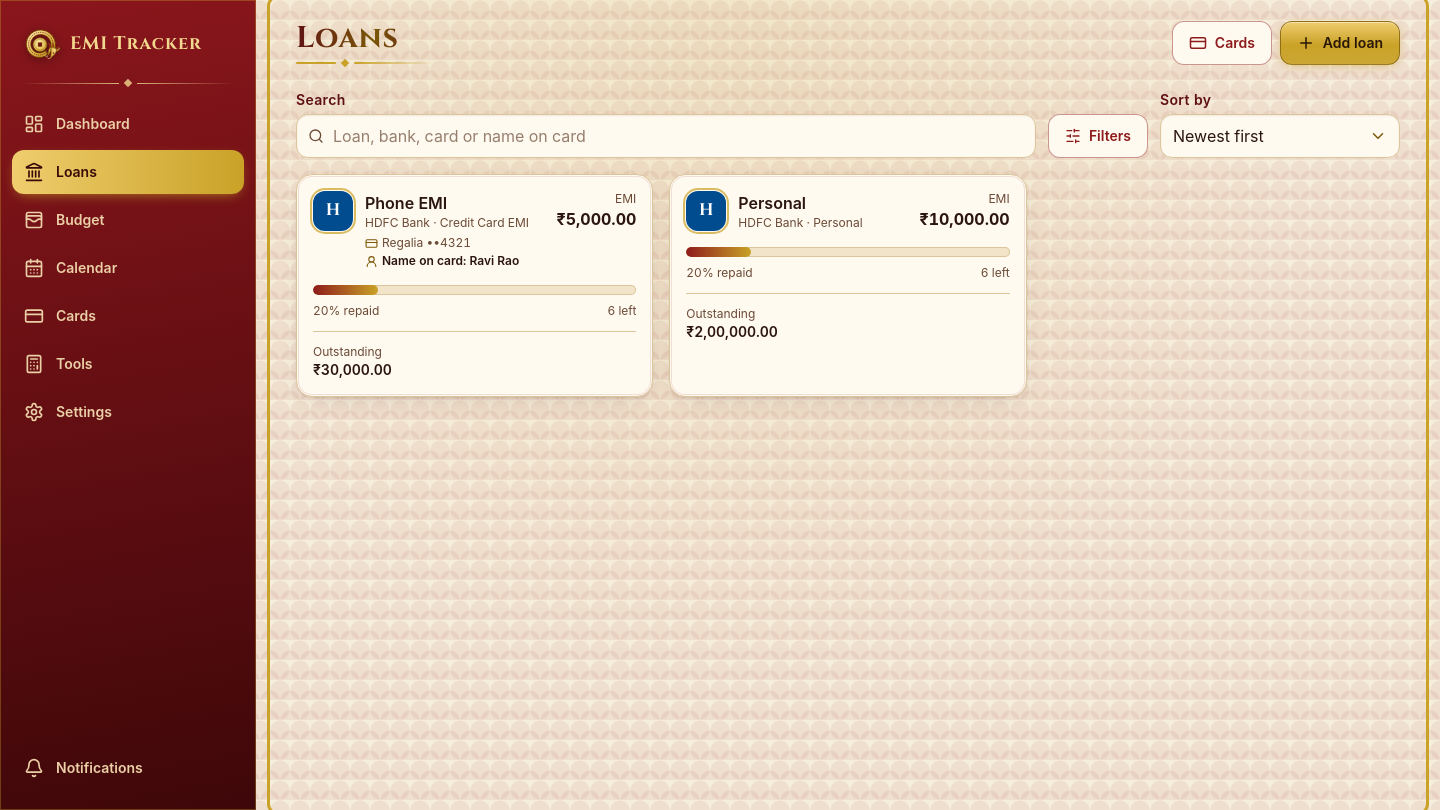
Test: loan filters › searches by name on card
Type "ravi" into the search field labelled "Search" at (666, 136), box [296, 114, 1036, 158]
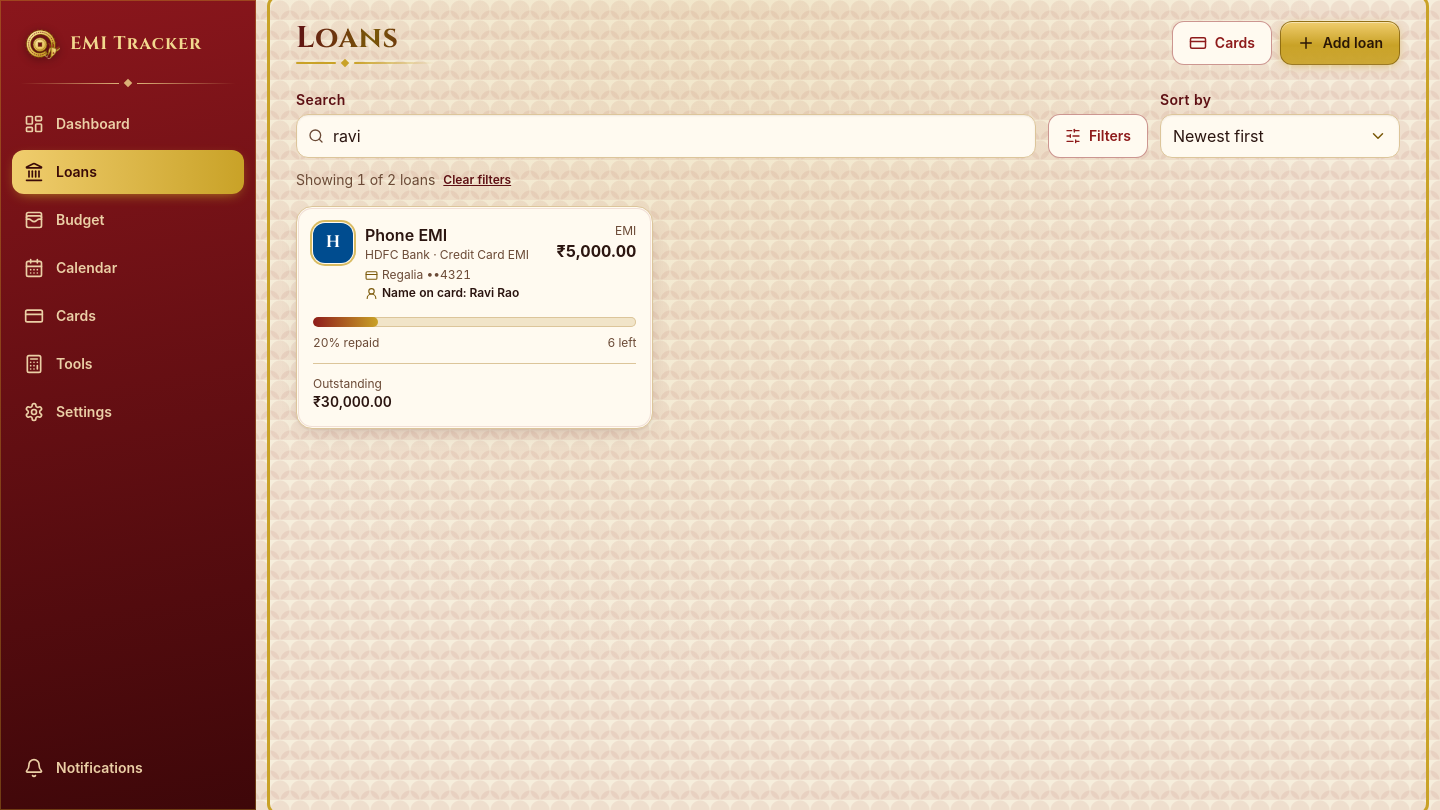
Expected: the text "Phone EMI" is shown, [365, 225, 447, 245]
Now the text "Showing 1 of 2 loans" is shown, box [296, 170, 435, 190]
